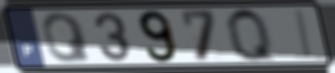3: (92, 11, 132, 64)
7: (179, 8, 221, 63)
9: (136, 9, 180, 65)
I: (295, 8, 317, 61)
Q: (224, 5, 281, 64), (40, 11, 94, 64)
